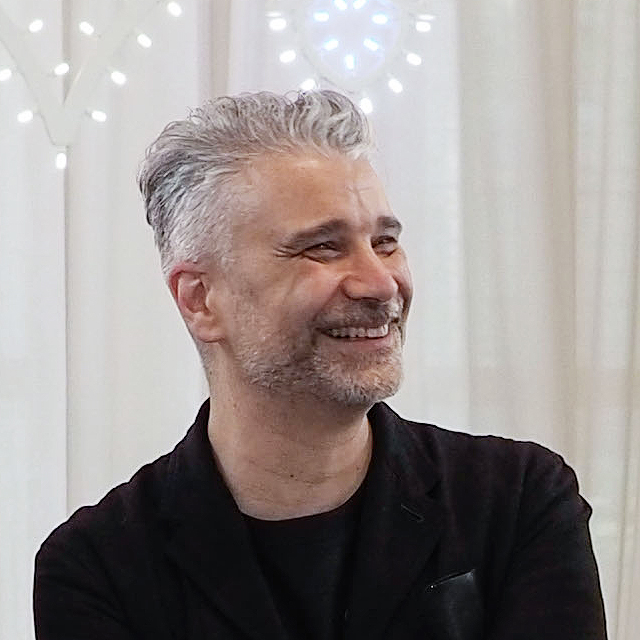human: (193, 139, 421, 418)
